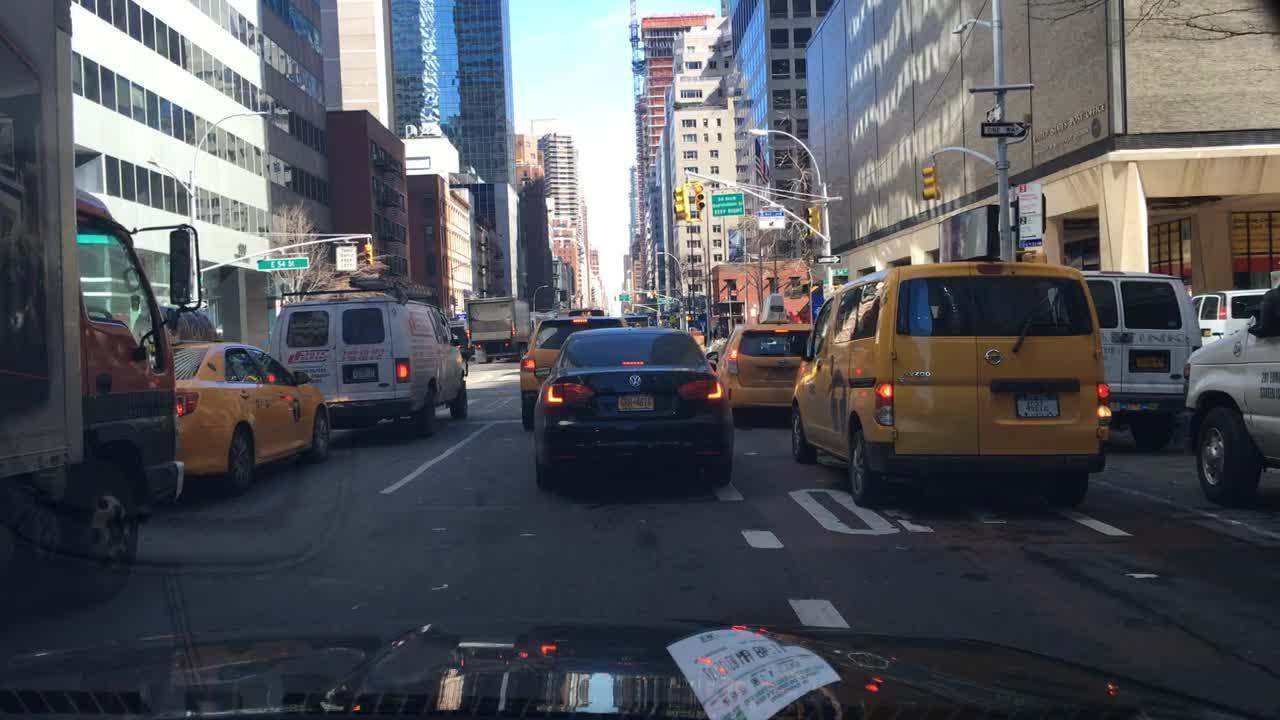Volkswagen: (626, 370, 644, 392)
